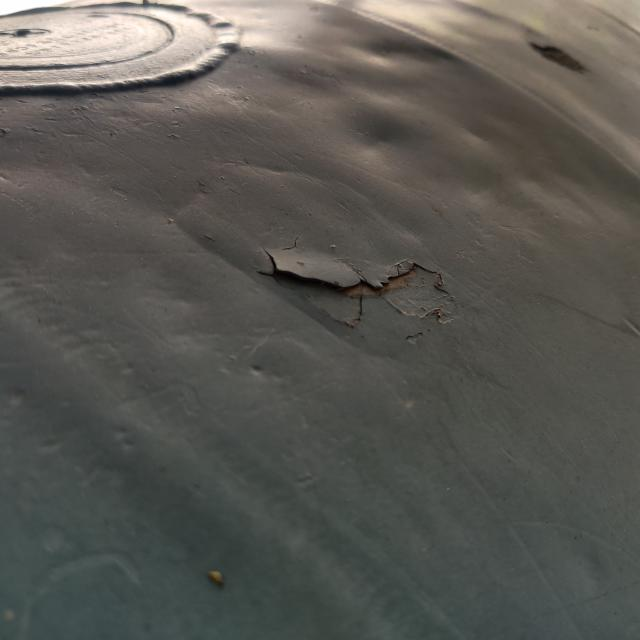crack: (241, 230, 463, 328)
dent: (324, 90, 446, 184), (342, 15, 469, 85)
